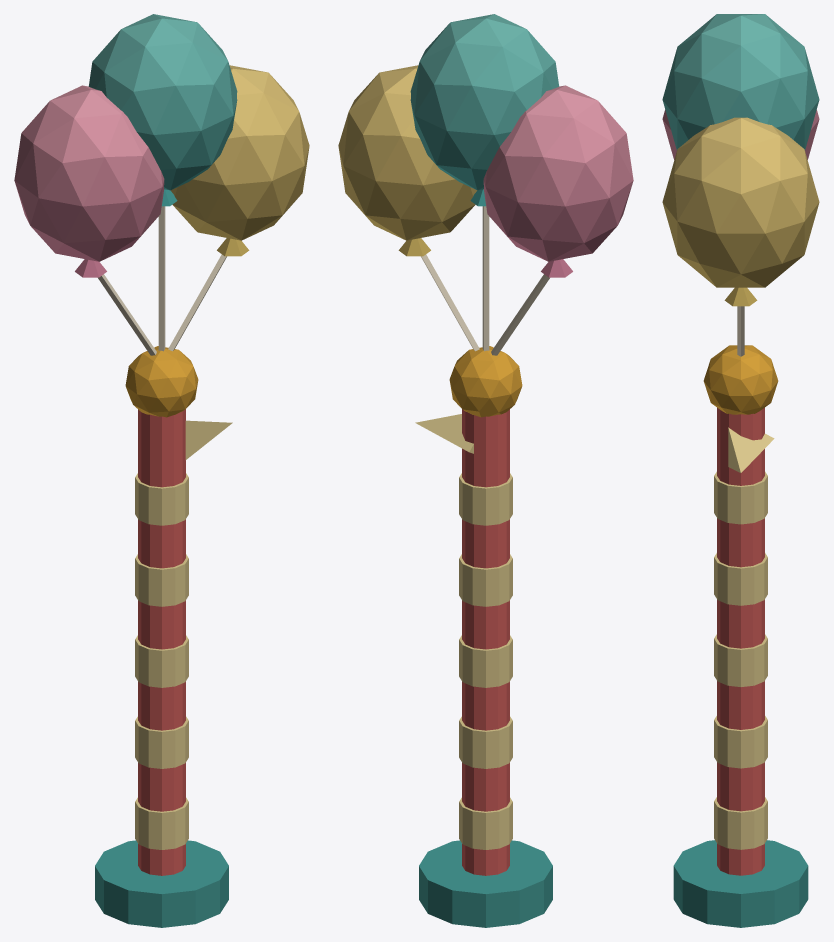
Rendered from plot_skin_fairground.fbx.
3 renders of one model, left to right at view 1: azimuth 30°, elevation 25°; view 2: azimuth 150°, elevation 25°; view 3: azimuth 270°, elevation 25°, orthographic.
Visible parts, largest first — view 1: plot_skin_fairground; view 2: plot_skin_fairground; view 3: plot_skin_fairground.
Part boxes in pixels (left/top/right/bottom): plot_skin_fairground: left=14, top=14, right=309, bottom=927; plot_skin_fairground: left=338, top=14, right=633, bottom=927; plot_skin_fairground: left=662, top=14, right=819, bottom=927.
Bounding box in the file's own units: 2.52 × 7.82 × 1.26.
